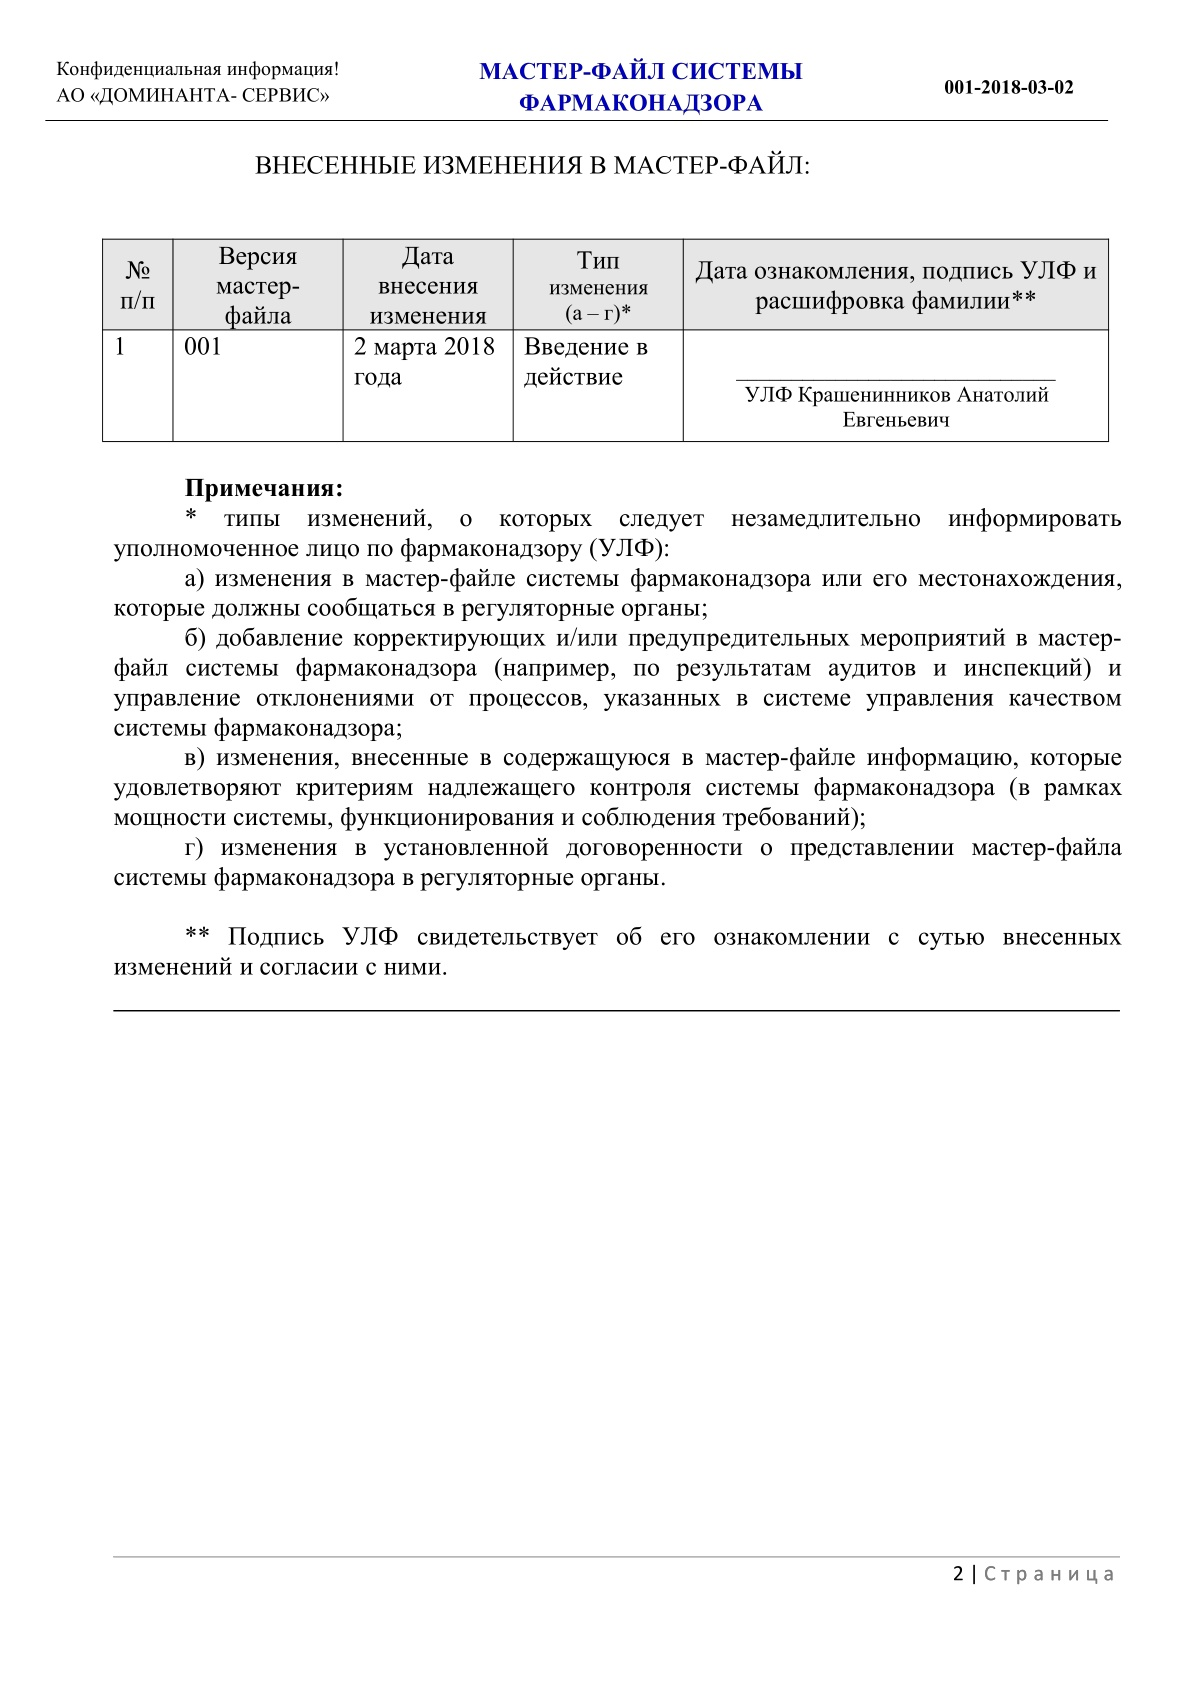full_lined: (107, 244, 1105, 441)
